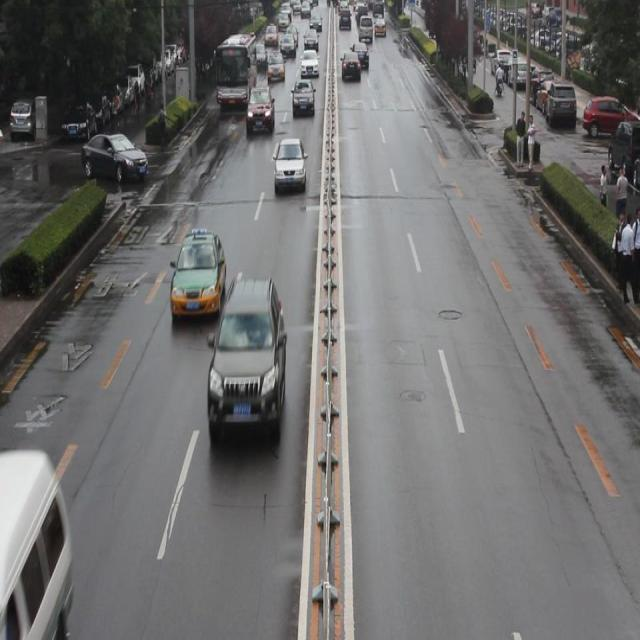car: (205, 281, 286, 438), (170, 226, 225, 318), (81, 132, 147, 187), (273, 136, 305, 189), (246, 86, 276, 134), (290, 80, 314, 114)
truck: (0, 449, 72, 630)
van: (216, 32, 256, 108)
